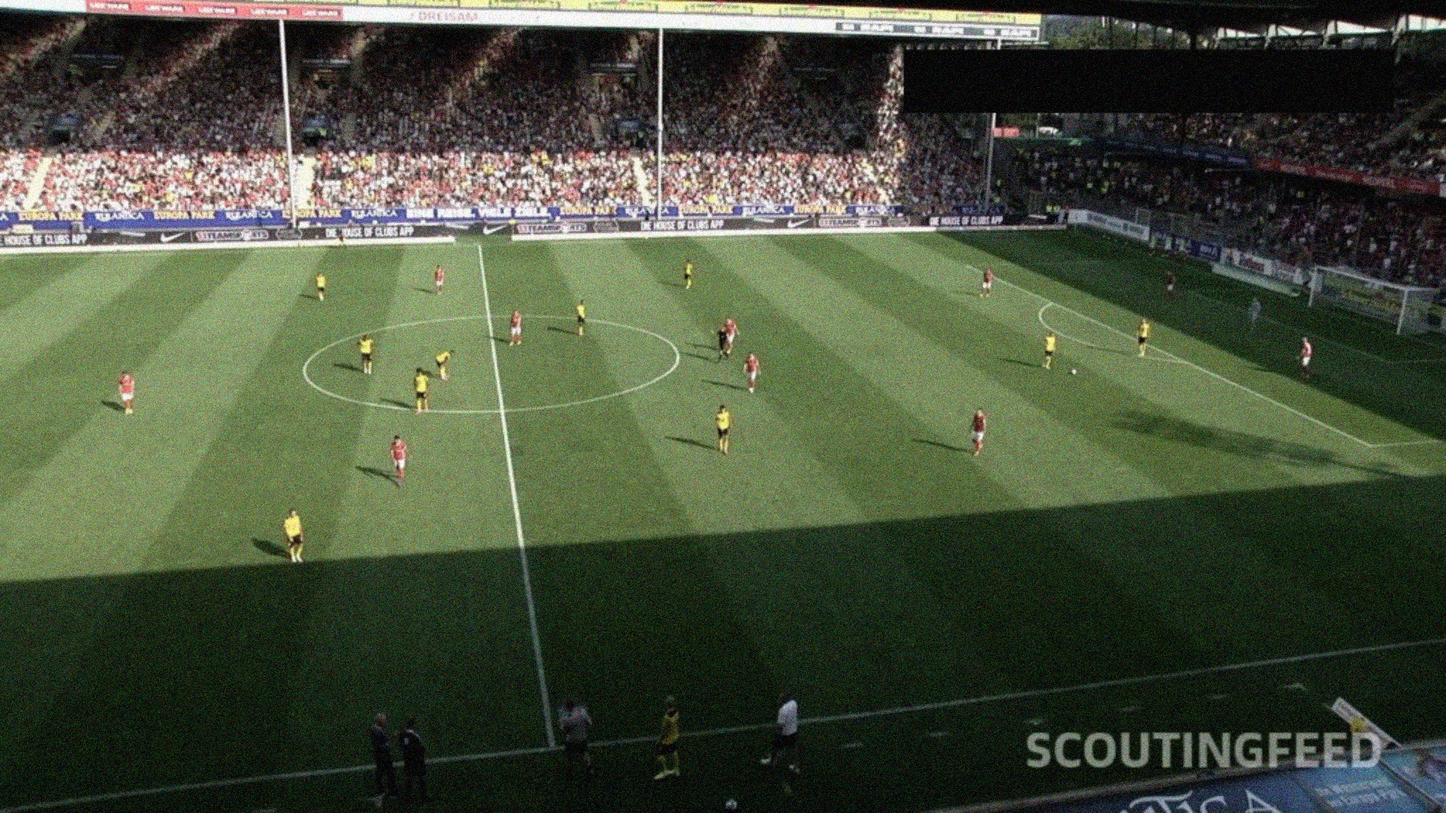ball: (1070, 367, 1078, 376)
goalkeeper: (1242, 295, 1262, 334)
player: (281, 504, 311, 565), (388, 433, 411, 488), (710, 405, 733, 455), (115, 367, 137, 417), (410, 366, 432, 415), (358, 334, 379, 379), (741, 351, 762, 394), (505, 308, 526, 350), (722, 313, 741, 358), (1295, 333, 1314, 377), (432, 346, 455, 381), (1133, 317, 1152, 359), (972, 407, 987, 456), (572, 298, 589, 338), (1042, 330, 1057, 375), (975, 266, 995, 299), (681, 259, 697, 293), (433, 264, 448, 296), (315, 272, 328, 302), (1166, 269, 1176, 291)
referee: (709, 322, 730, 369), (334, 226, 348, 250)
